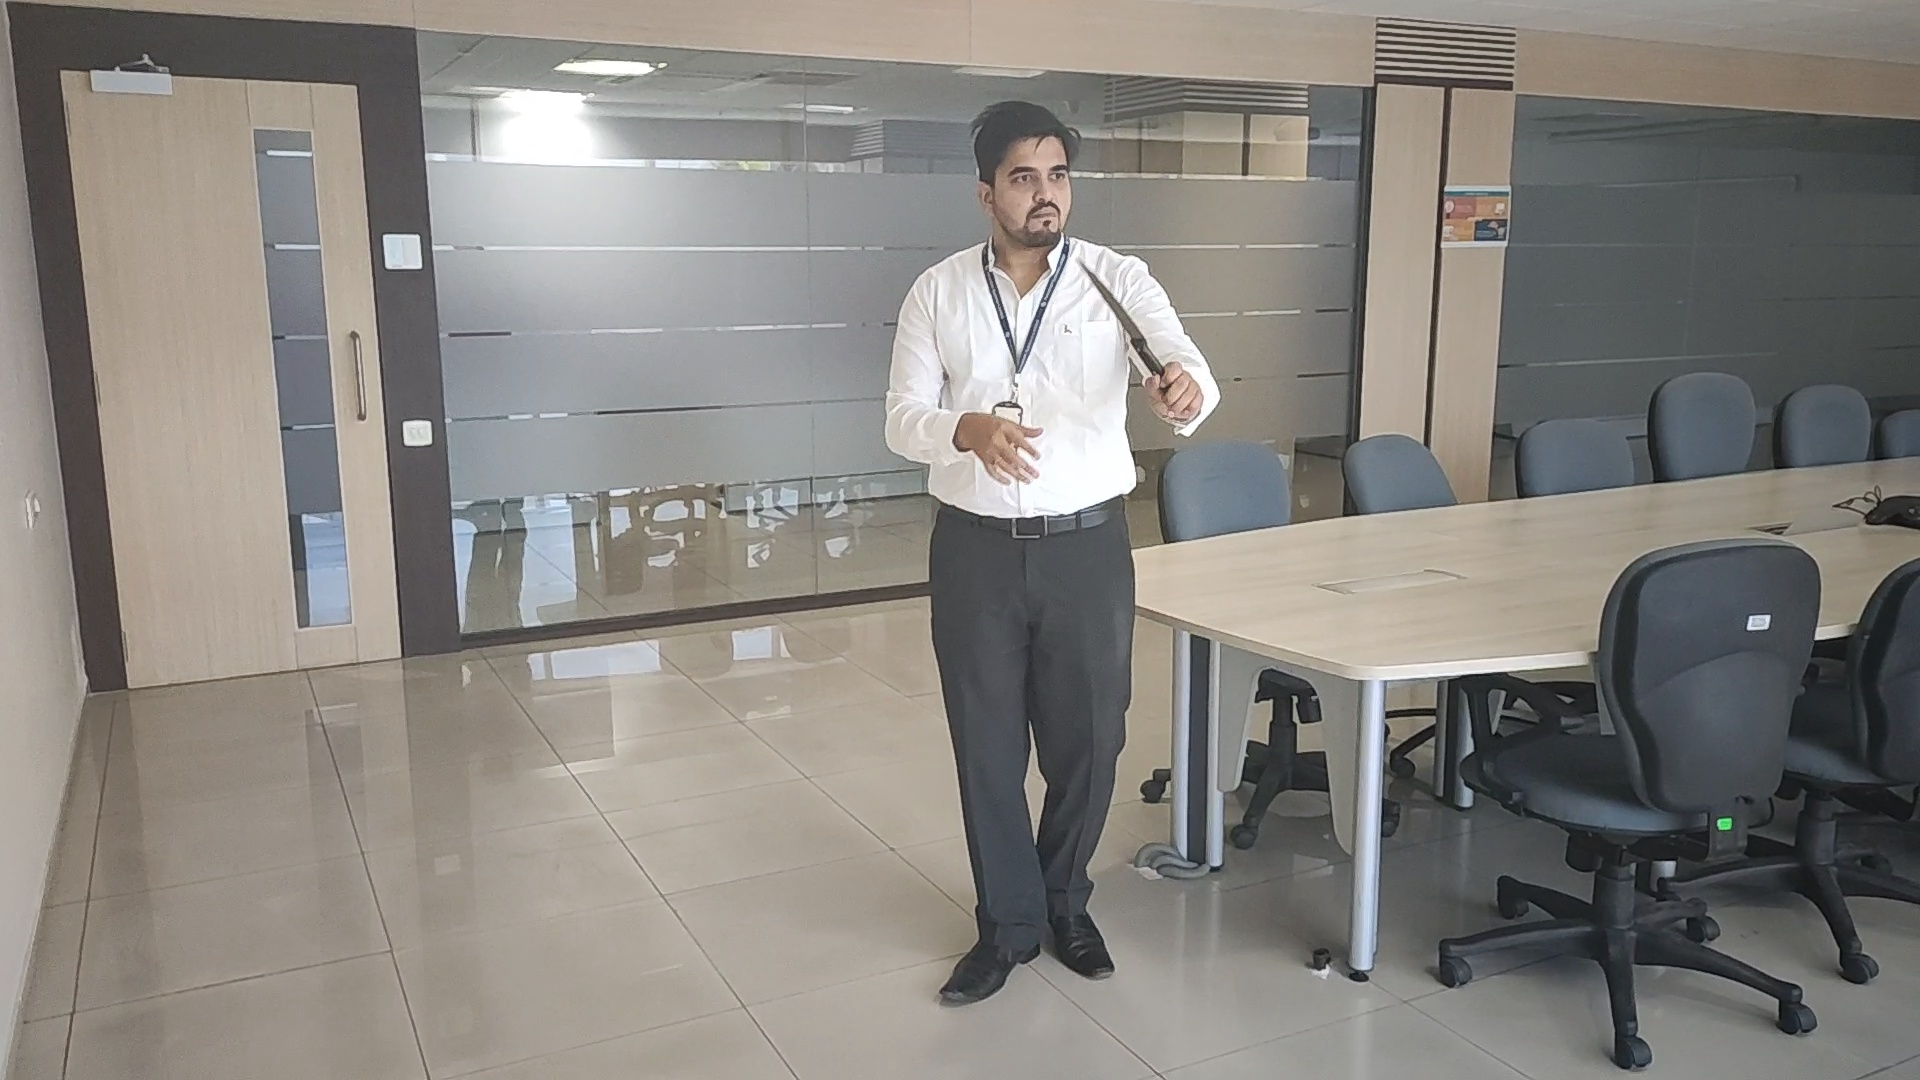knife: (1079, 260, 1159, 371)
